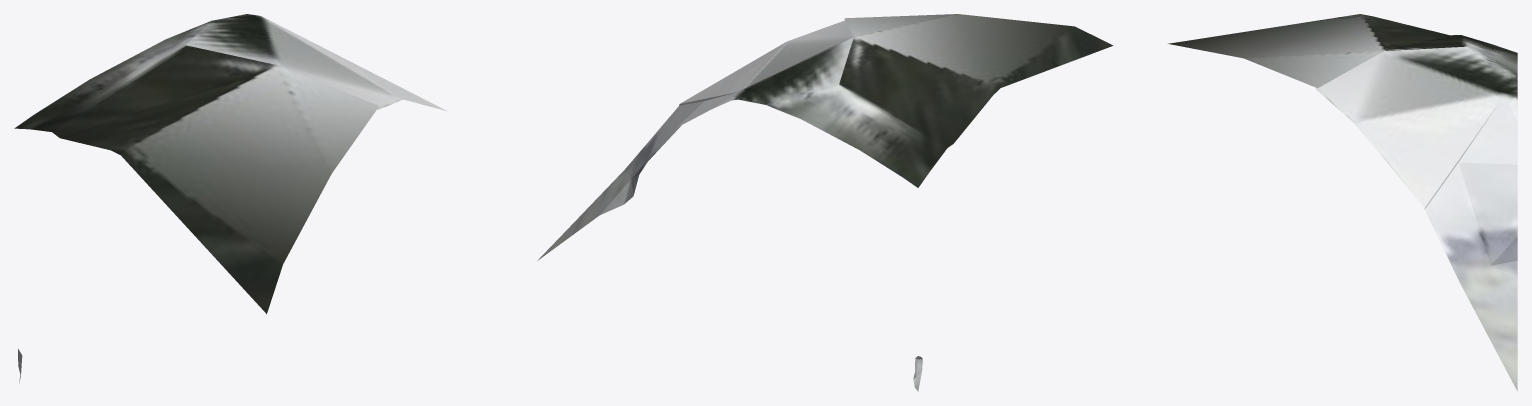
3 renders of one model, left to right at view 1: azimuth 30°, elevation 25°; view 2: azimuth 150°, elevation 25°; view 3: azimuth 270°, elevation 25°, orthographic. The views are drawn at different scales.
Bounding box in the file's own units: 1.69 × 1.14 × 1.5.
1 material, 1 textured.
